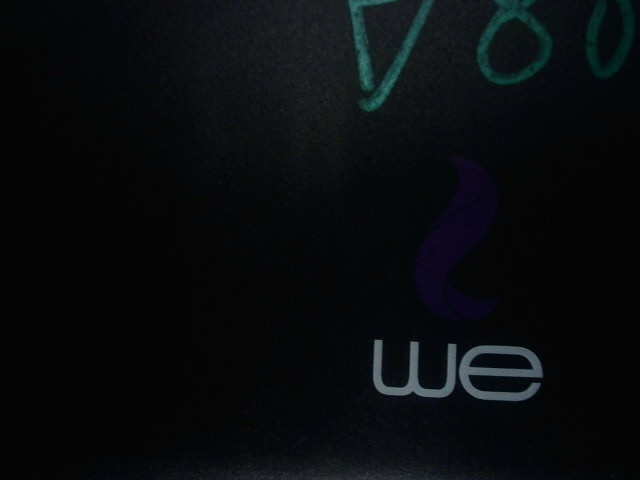AT_We: (359, 154, 548, 406)
